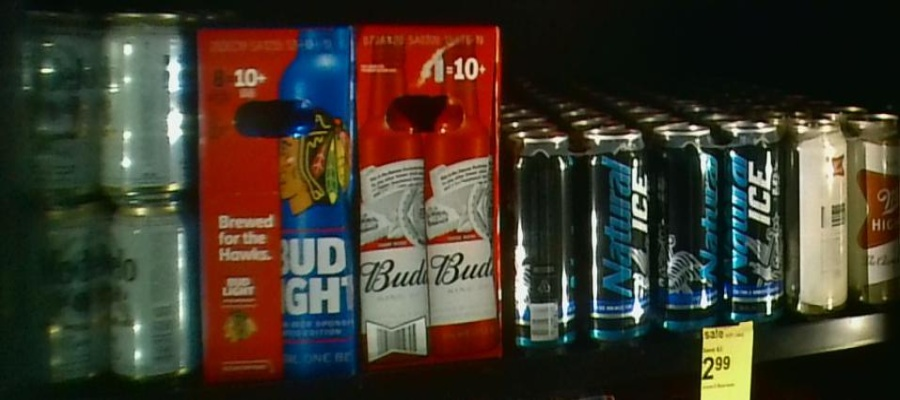bottle: (1, 8, 205, 381), (194, 21, 364, 375), (360, 21, 504, 368), (506, 134, 647, 346), (661, 129, 784, 325), (787, 120, 900, 316)
